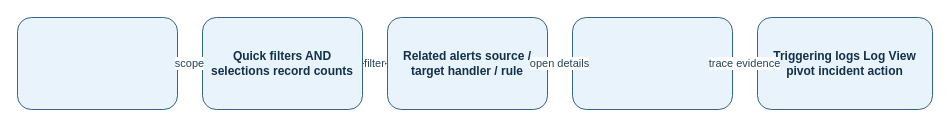
Some shapes in this 950 by 127 pixel diagram are drawn without their labels. Here are the shapes that lost their labels. From the top down, the centre of each, then its label:
(97,63): Device + time scope refresh
(652,63): Details pane raw JSON + timeline
